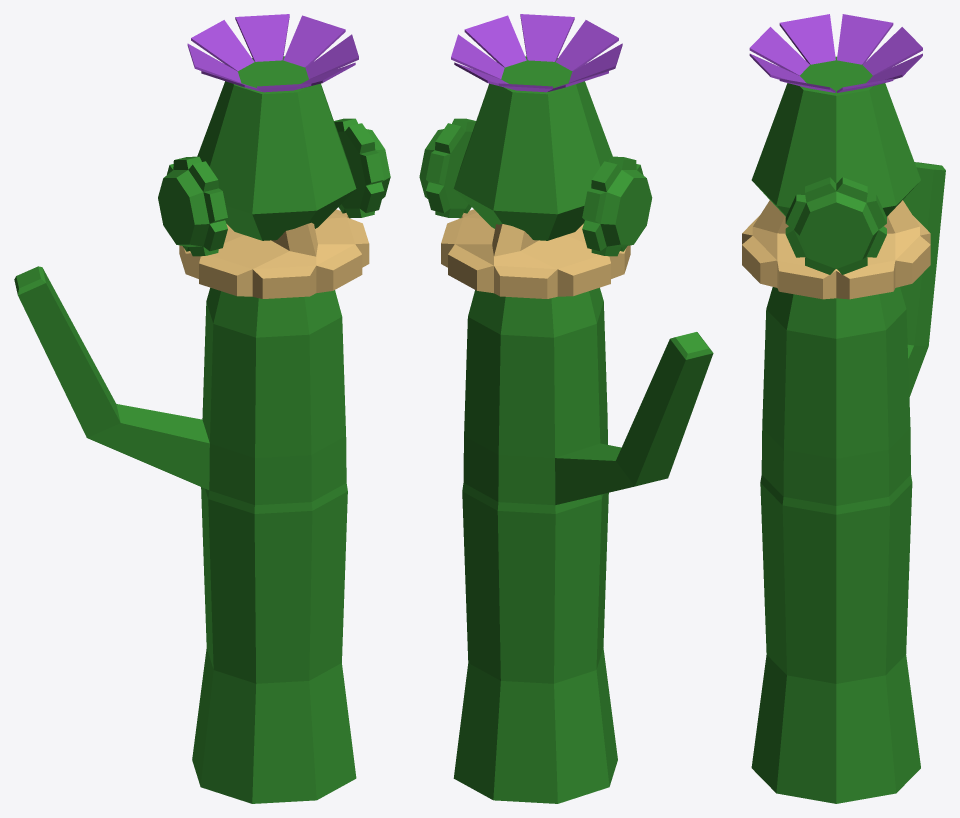
Rendered from Cactus.fbx.
3 renders of one model, left to right at view 1: azimuth 30°, elevation 25°; view 2: azimuth 150°, elevation 25°; view 3: azimuth 270°, elevation 25°, orthographic.
Parts seen in each view (by area): view 1: CactusBase, CactusMid, CogY, Circle; view 2: CactusBase, CactusMid, CogY, Circle; view 3: CactusBase, CactusMid, CogY, Circle.
Boxes of the visible parts, x1,y1,x2,y2 form: CactusBase: (14, 266, 356, 803); CactusMid: (158, 56, 390, 256); CogY: (179, 209, 369, 298); Circle: (187, 14, 358, 92); CactusBase: (453, 287, 713, 803); CactusMid: (419, 56, 652, 256); CogY: (441, 209, 630, 298); Circle: (451, 14, 622, 92); CactusBase: (751, 162, 945, 803); CactusMid: (751, 56, 920, 274); CogY: (742, 200, 930, 299); Circle: (749, 14, 922, 92).
Bounding box in the file's own units: 855 × 1866 × 481.
